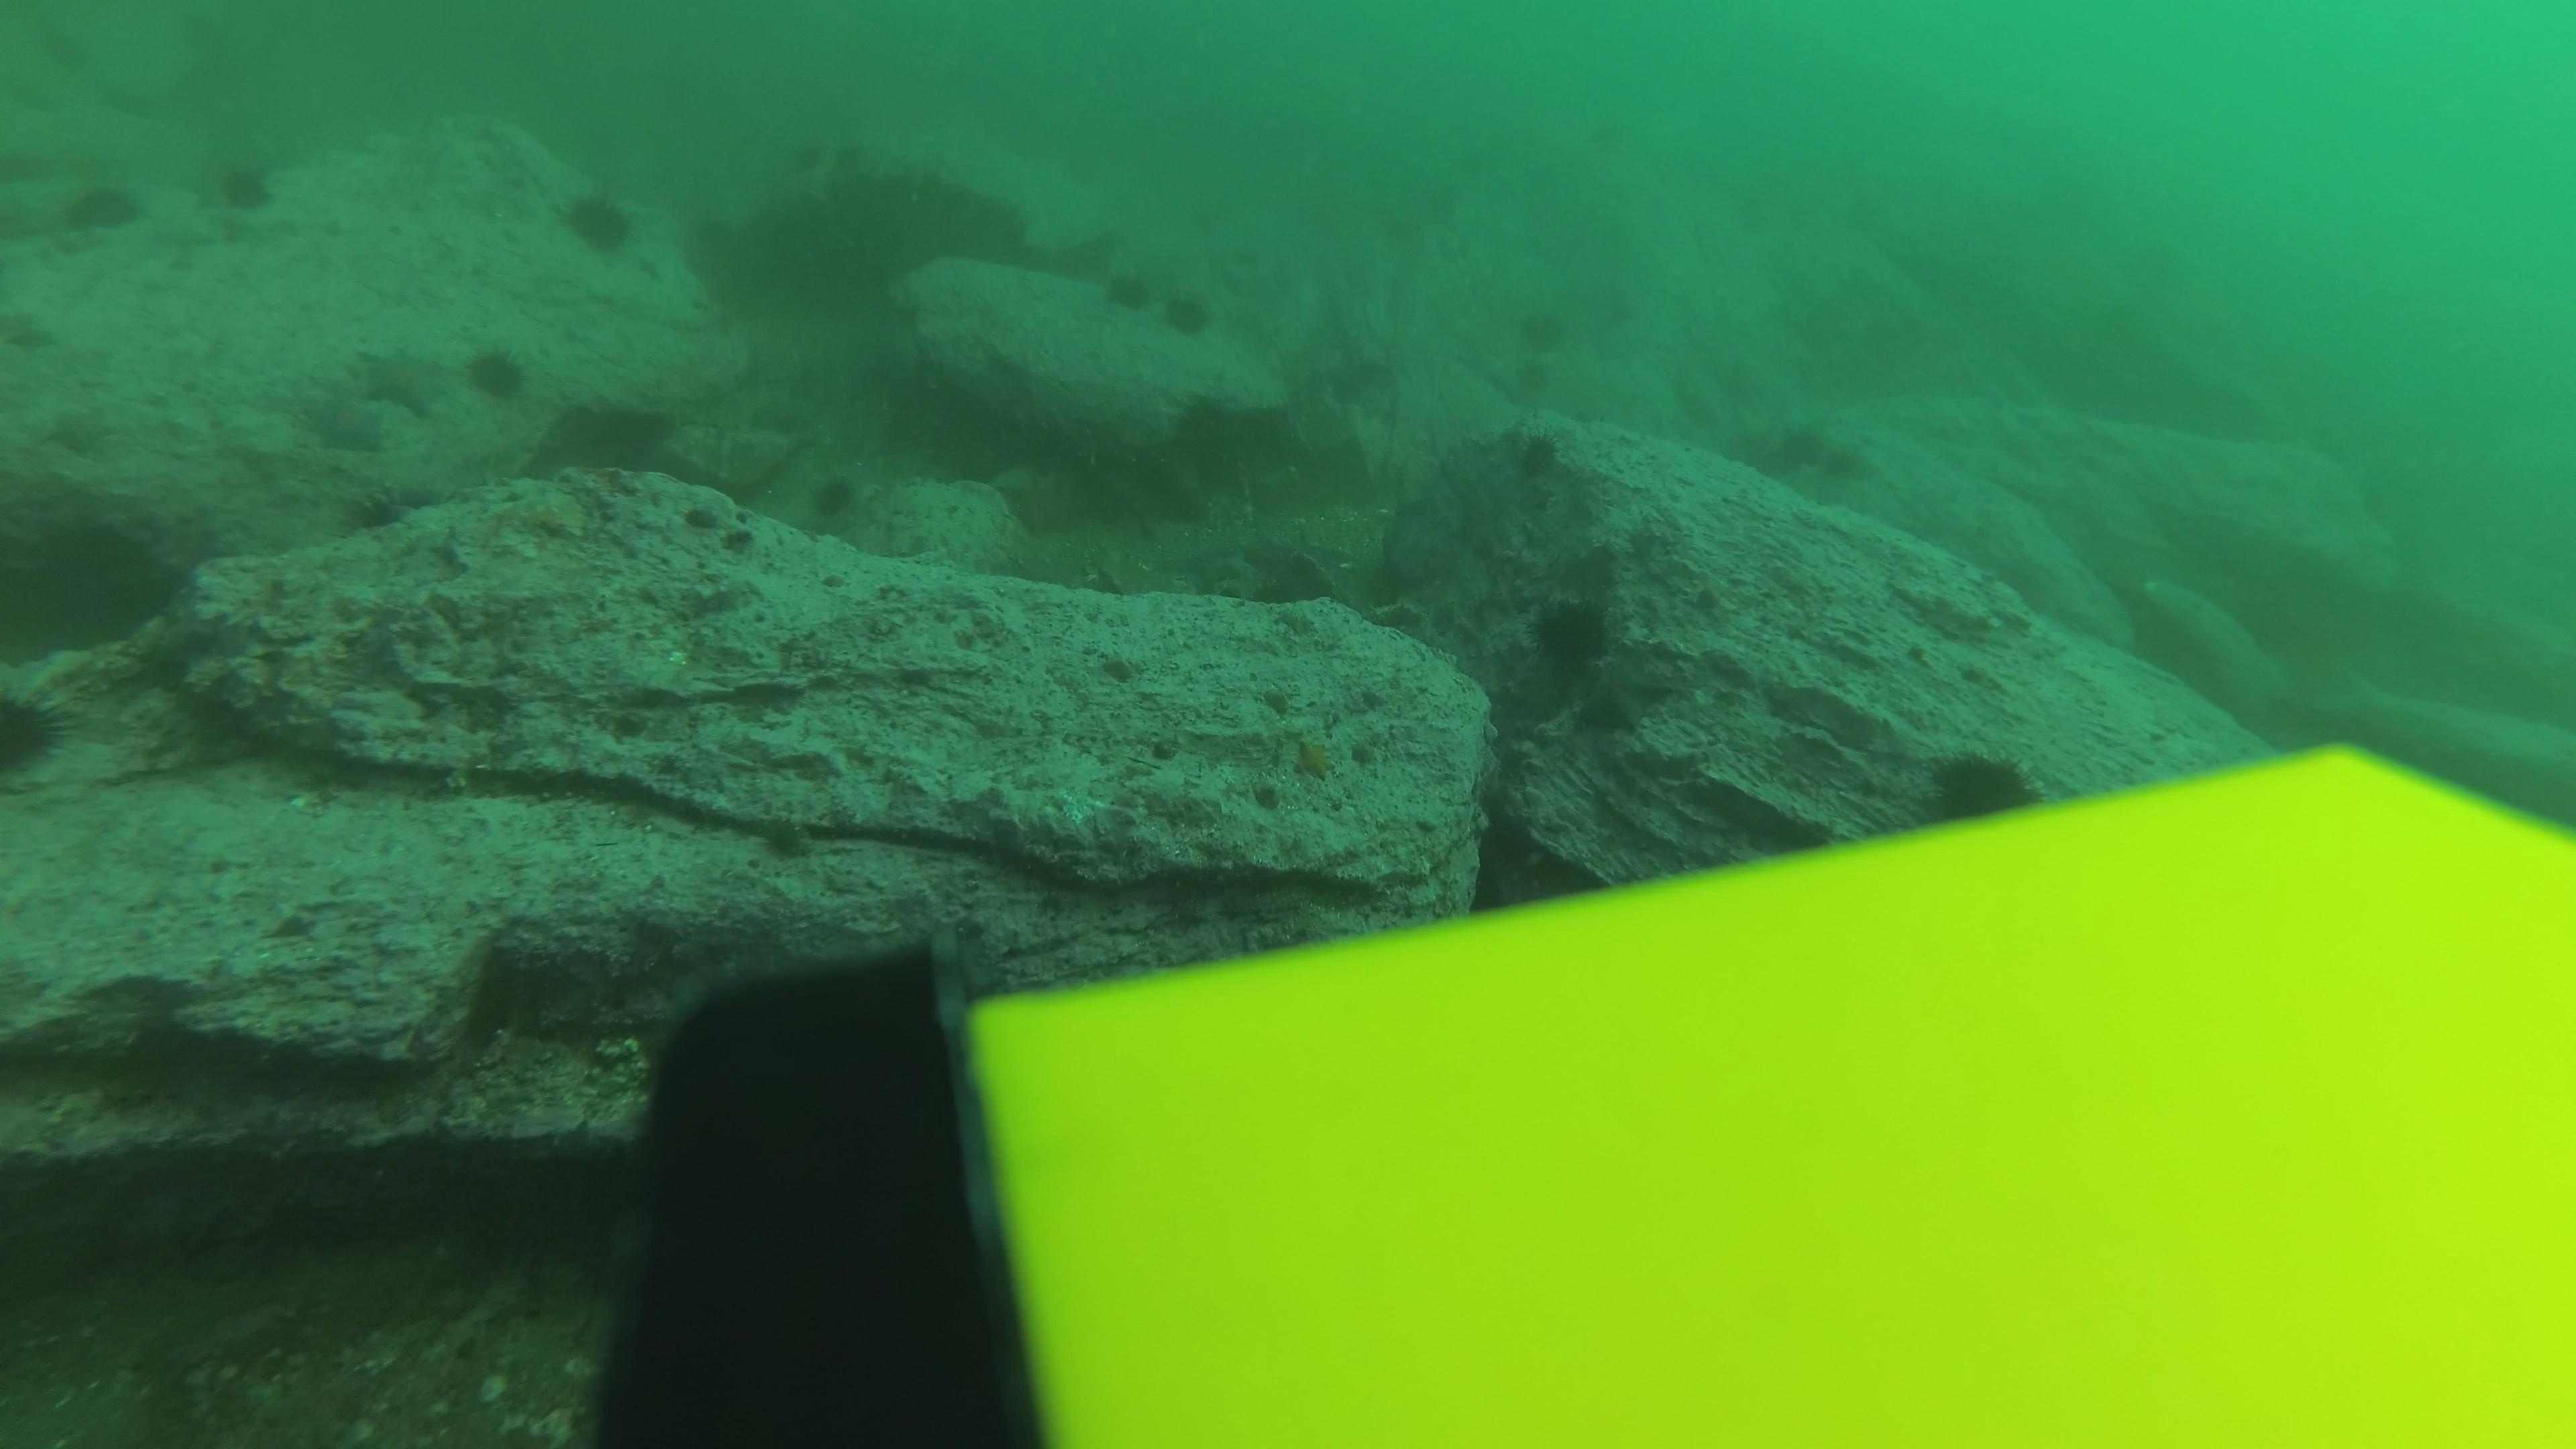echinus: (1918, 743, 2045, 828), (1522, 587, 1624, 683), (0, 678, 71, 789), (556, 180, 642, 260), (53, 172, 147, 242), (798, 467, 874, 541), (338, 476, 414, 550), (207, 150, 283, 218), (1502, 425, 1571, 490), (464, 340, 531, 405), (1155, 283, 1217, 343), (1095, 260, 1157, 320), (777, 126, 839, 186), (1513, 299, 1573, 345), (1513, 354, 1557, 400)
starfish: (1566, 655, 1681, 738), (350, 343, 451, 423), (295, 389, 393, 458), (1283, 731, 1346, 789)
